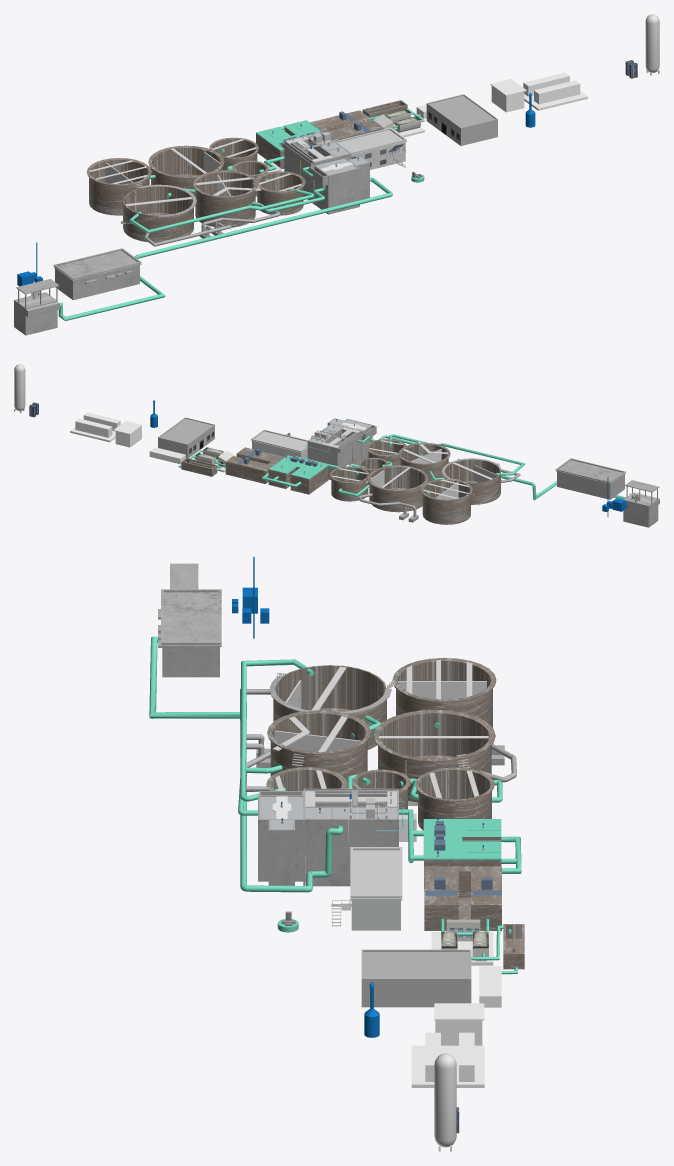
File: 大场景.glb
3 views of the same model, one above another, from view 1: azimuth 30°, elevation 25°; view 2: azimuth 150°, elevation 25°; view 3: azimuth 270°, elevation 25° (orthographic). The views are drawn at different scales.
Parts seen in each view (by area): view 1: 配电室.1, 圆柱.1_17, 污泥间, 圆柱.1_14, 扫描, 圆柱.1_15, 配电室, 圆柱.1_16, 圆柱.1_13, 立方体.13_1, 立方体.2_6, 在线监测间 (+8 smaller); view 2: 配电室.1, 圆柱.1_16, 圆柱.1_15, 污泥间, 圆柱.1_17, 立方体.13_1, 配电室, 圆柱.1_12, 立方体_1, 圆柱.1_14, 立方体.10_2, 在线监测间 (+16 smaller); view 3: 污泥间, 圆柱.1_16, 配电室.1, 配电室, 圆柱.1_17, 立方体.13_1, 立方体.14_1, 圆柱.1_14, 圆柱.1_12, 扫描, 圆柱.1_15, 圆柱.1_1 (+17 smaller).
Part boxes in pixels (left/top/right/bottom): 配电室.1: left=53, top=248, right=141, bottom=300; 圆柱.1_17: left=123, top=186, right=193, bottom=242; 污泥间: left=426, top=94, right=497, bottom=145; 圆柱.1_14: left=195, top=172, right=255, bottom=227; 扫描: left=58, top=148, right=392, bottom=320; 圆柱.1_15: left=89, top=159, right=149, bottom=215; 配电室: left=336, top=127, right=406, bottom=169; 圆柱.1_16: left=151, top=147, right=221, bottom=195; 圆柱.1_13: left=257, top=172, right=303, bottom=215; 立方体.13_1: left=310, top=110, right=383, bottom=140; 立方体.2_6: left=328, top=168, right=358, bottom=214; 在线监测间: left=490, top=79, right=526, bottom=112; 配电室.1: left=555, top=458, right=625, bottom=499; 圆柱.1_16: left=369, top=466, right=425, bottom=512; 圆柱.1_15: left=422, top=480, right=470, bottom=524; 污泥间: left=158, top=417, right=214, bottom=457; 圆柱.1_17: left=444, top=459, right=500, bottom=504; 立方体.13_1: left=225, top=447, right=284, bottom=483; 配电室: left=251, top=429, right=307, bottom=458; 圆柱.1_12: left=331, top=467, right=368, bottom=501; 立方体_1: left=268, top=466, right=328, bottom=494; 圆柱.1_14: left=400, top=444, right=448, bottom=482; 立方体.10_2: left=308, top=441, right=337, bottom=479; 在线监测间: left=113, top=421, right=142, bottom=447; 污泥间: left=361, top=949, right=471, bottom=1007; 圆柱.1_16: left=378, top=712, right=491, bottom=802; 配电室.1: left=158, top=589, right=221, bottom=677; 配电室: left=350, top=847, right=402, bottom=930; 圆柱.1_17: left=273, top=665, right=386, bottom=749; 立方体.13_1: left=424, top=866, right=501, bottom=930; 立方体.14_1: left=306, top=818, right=398, bottom=886; 圆柱.1_14: left=270, top=712, right=367, bottom=788; 圆柱.1_12: left=418, top=769, right=491, bottom=830; 扫描: left=149, top=636, right=343, bottom=892; 圆柱.1_15: left=396, top=660, right=492, bottom=727; 圆柱.1_1: left=434, top=1053, right=456, bottom=1147.
Bounding box in the file's own units: 25.78 × 2.88 × 7.28.
25 materials, 11 textured.
